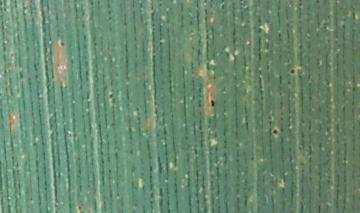tarspot: (286, 67, 299, 78), (270, 125, 280, 139), (209, 95, 217, 112), (107, 90, 115, 102), (59, 39, 67, 48)
